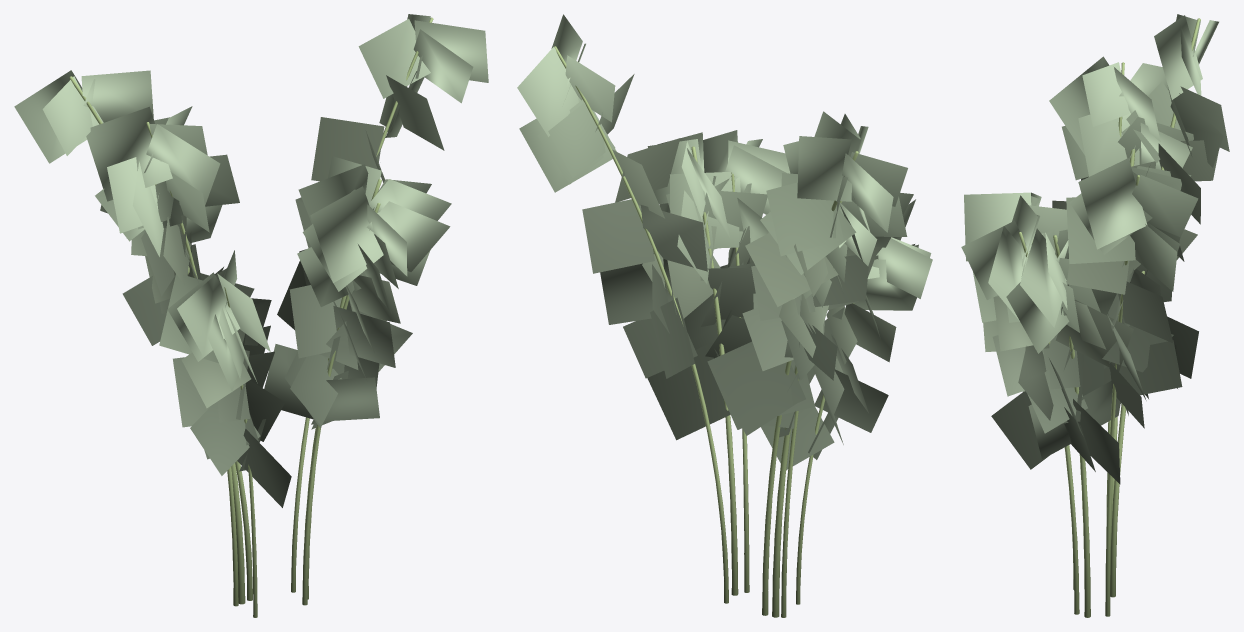
File: bamboo_1.glb
3 views of the same model, side by side, from view 1: azimuth 30°, elevation 25°; view 2: azimuth 150°, elevation 25°; view 3: azimuth 270°, elevation 25° (orthographic). The views are drawn at different scales.
Visible parts, largest first — view 1: bamboo_20; view 2: bamboo_20; view 3: bamboo_20.
Boxes of the visible parts, x1,y1,x2,y2 form: bamboo_20: [14, 14, 488, 617]; bamboo_20: [517, 14, 932, 617]; bamboo_20: [961, 14, 1229, 617].
Size of the model in its own units: 8.76 by 10.83 by 5.04.
